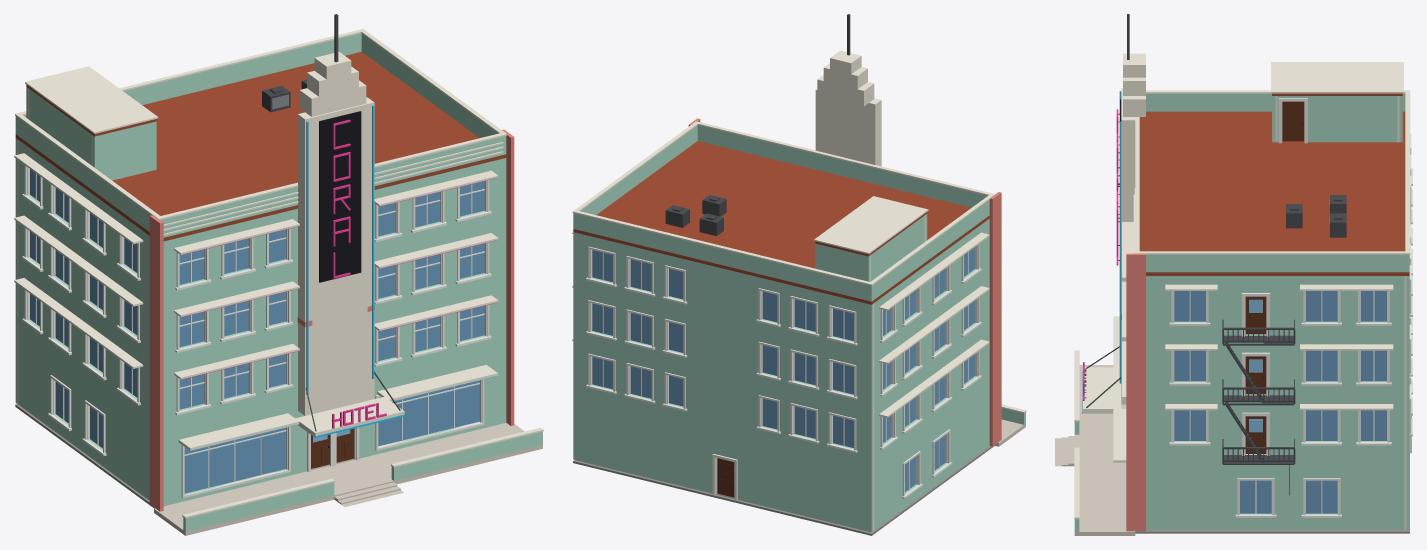
Rendered from DecoHotel.glb.
The picture shows the model from 3 angles, left to right: view 1: azimuth 30°, elevation 25°; view 2: azimuth 150°, elevation 25°; view 3: azimuth 270°, elevation 25°; orthographic projection. The views are drawn at different scales.
Visible parts, largest first — view 1: DecoHotel_DecoWall, DecoHotel_DecoAccent, DecoHotel_Roof, DecoHotel_Glass, DecoHotel_Trim, DecoHotel_Terrazzo, DecoHotel_DecoCoral, DecoHotel_Sign, DecoHotel_NeonPink, DecoHotel_NeonBlue, DecoHotel_Metal, DecoHotel_Foundation (+1 smaller); view 2: DecoHotel_DecoWall, DecoHotel_Roof, DecoHotel_DecoAccent, DecoHotel_Trim, DecoHotel_Glass, DecoHotel_DecoCoral, DecoHotel_Foundation, DecoHotel_Metal, DecoHotel_Terrazzo, DecoHotel_Door3, DecoHotel_WallsIn; view 3: DecoHotel_DecoWall, DecoHotel_Roof, DecoHotel_DecoAccent, DecoHotel_Glass, DecoHotel_Trim, DecoHotel_Terrazzo, DecoHotel_DecoCoral, DecoHotel_Metal, DecoHotel_Foundation, DecoHotel_WallsIn, DecoHotel_Door7, DecoHotel_NeonBlue (+4 smaller).
Part boxes in pixels (box(x1,y1,x2,y2)): DecoHotel_DecoWall: box(15, 33, 542, 531); DecoHotel_DecoAccent: box(14, 29, 543, 518); DecoHotel_Roof: box(15, 51, 506, 241); DecoHotel_Glass: box(30, 169, 484, 493); DecoHotel_Trim: box(22, 165, 491, 498); DecoHotel_Terrazzo: box(154, 423, 542, 535); DecoHotel_DecoCoral: box(149, 129, 514, 511); DecoHotel_Sign: box(319, 111, 361, 282); DecoHotel_NeonPink: box(181, 119, 496, 428); DecoHotel_NeonBlue: box(191, 105, 496, 450); DecoHotel_Metal: box(262, 14, 400, 431); DecoHotel_Foundation: box(15, 404, 154, 508); DecoHotel_DecoWall: box(573, 125, 1025, 532); DecoHotel_Roof: box(573, 141, 989, 304); DecoHotel_DecoAccent: box(572, 50, 1026, 417); DecoHotel_Trim: box(586, 244, 981, 500); DecoHotel_Glass: box(592, 247, 974, 491); DecoHotel_DecoCoral: box(688, 118, 1001, 446); DecoHotel_Foundation: box(573, 445, 994, 535); DecoHotel_Metal: box(665, 14, 850, 236); DecoHotel_Terrazzo: box(578, 419, 1025, 532); DecoHotel_Door3: box(717, 458, 734, 497); DecoHotel_WallsIn: box(870, 215, 925, 530); DecoHotel_DecoWall: box(1074, 94, 1409, 531); DecoHotel_Roof: box(1139, 93, 1409, 275); DecoHotel_DecoAccent: box(1074, 53, 1410, 519); DecoHotel_Glass: box(1174, 291, 1386, 513); DecoHotel_Trim: box(1169, 98, 1412, 517); DecoHotel_Terrazzo: box(1055, 365, 1406, 535); DecoHotel_DecoCoral: box(1121, 253, 1145, 531); DecoHotel_Metal: box(1084, 14, 1346, 495); DecoHotel_Foundation: box(1135, 453, 1409, 533); DecoHotel_WallsIn: box(1275, 96, 1406, 529); DecoHotel_Door7: box(1282, 101, 1304, 141); DecoHotel_NeonBlue: box(1082, 91, 1121, 413).
Size of the model in its own units: 75.82 by 88 by 65.2.
